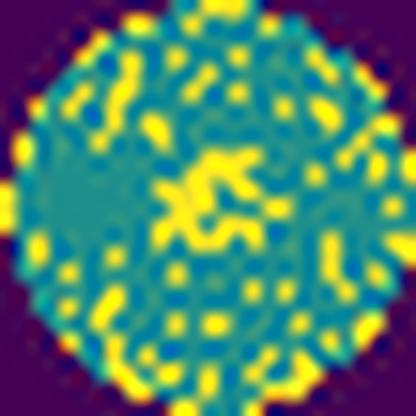Center: (147, 145, 291, 253)
